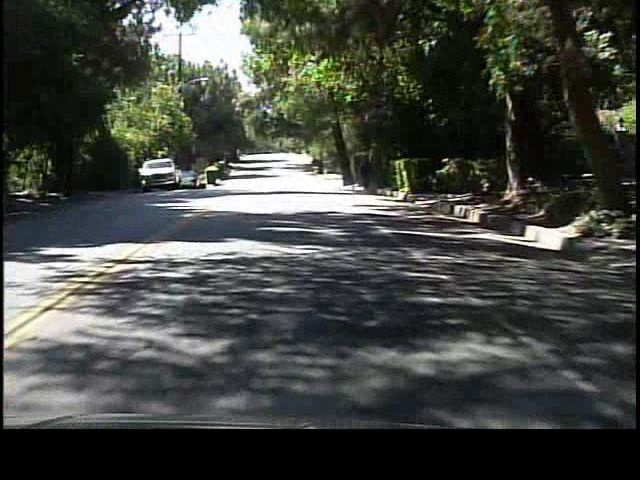person: (357, 154, 376, 196)
